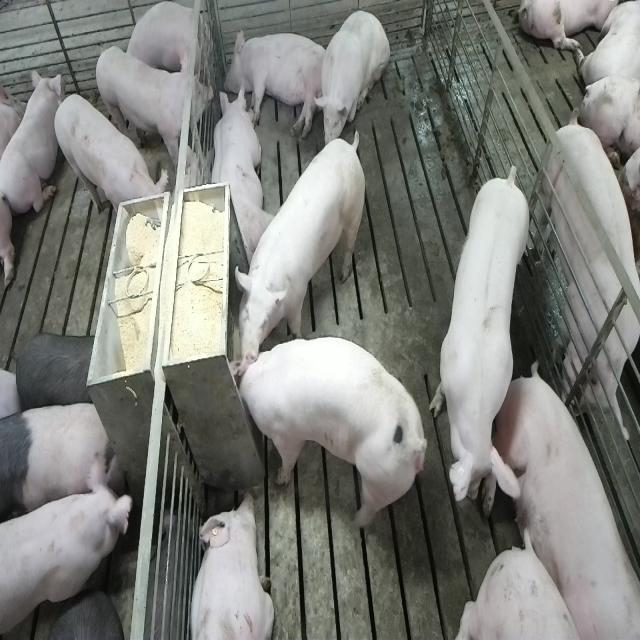Feeding: (235, 338, 427, 542), (234, 127, 368, 376)
Lateral_lying: (481, 361, 636, 636), (223, 26, 329, 140)
Sitting: (312, 8, 390, 152)
Standing: (432, 158, 532, 526), (535, 108, 640, 434), (1, 456, 135, 640), (52, 92, 166, 236), (2, 400, 120, 530)
Sternal_lying: (187, 490, 275, 640), (207, 80, 269, 262), (2, 70, 61, 222), (125, 2, 206, 86)
